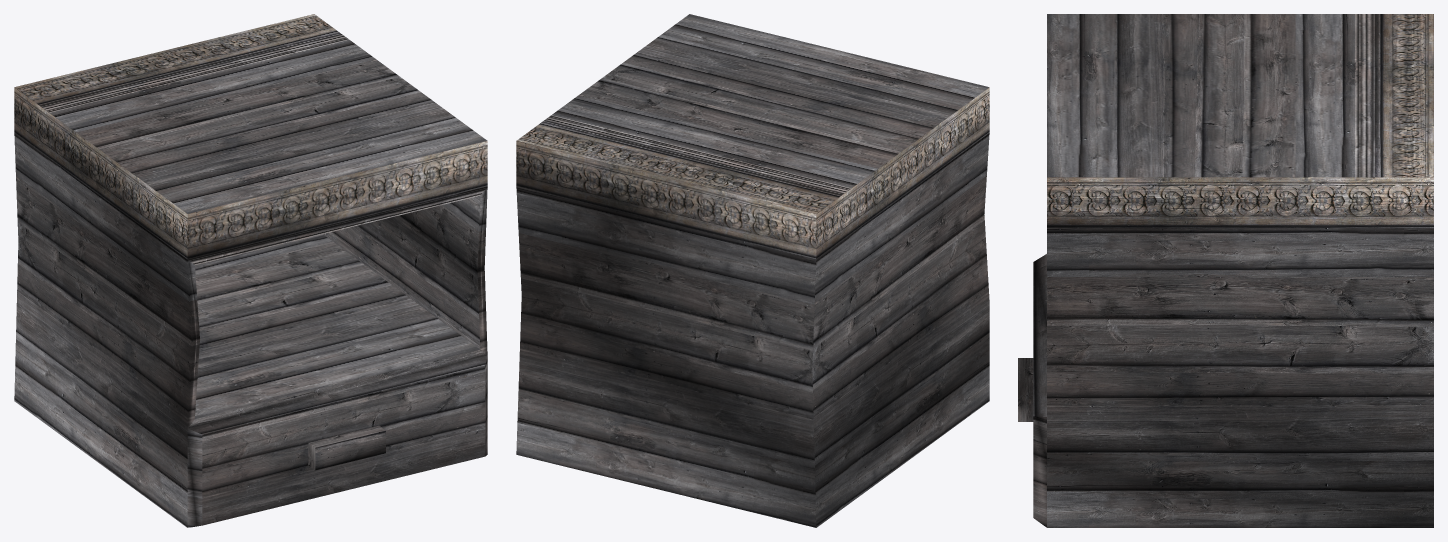
Rendered from tavern_smallbox.fbx.
3 views of the same model, side by side, from view 1: azimuth 30°, elevation 25°; view 2: azimuth 150°, elevation 25°; view 3: azimuth 270°, elevation 25° (orthographic). The views are drawn at different scales.
Parts seen in each view (by area): view 1: Default_Layer; view 2: Default_Layer; view 3: Default_Layer.
Boxes of the visible parts, x1=… form: Default_Layer: x1=14, y1=14, x2=487, y2=527; Default_Layer: x1=516, y1=14, x2=989, y2=527; Default_Layer: x1=1018, y1=14, x2=1433, y2=527.
Bounding box in the file's own units: 108 × 108 × 116.
1 material, 1 textured.
